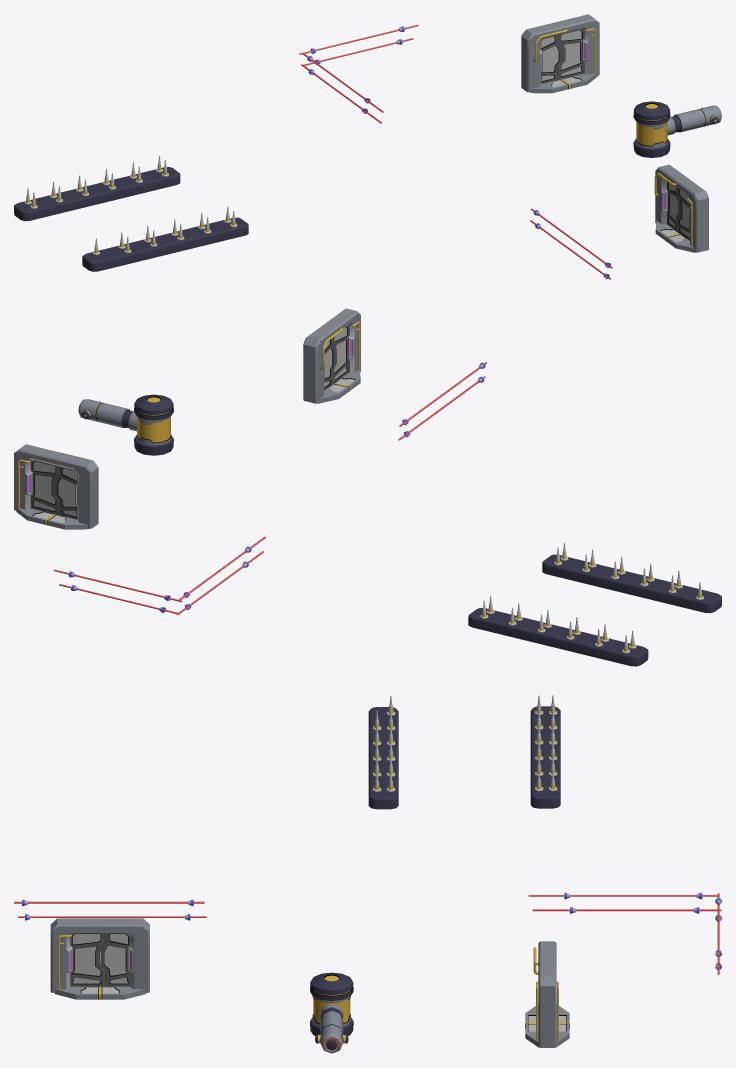
The model's file is Level41_Objects.fbx.
The picture shows the model from 3 angles, top to bottom: view 1: azimuth 30°, elevation 25°; view 2: azimuth 150°, elevation 25°; view 3: azimuth 270°, elevation 25°; orthographic projection. The views are drawn at different scales.
Parts seen in each view (by area): view 1: Base (×4), pCylinder13, Right (×2), Left (×2), Base5 (×2), pCylinder14; view 2: Base (×4), pCylinder13, Right (×2), Base5 (×2), pCylinder14, Left; view 3: Base (×4), Base5 (×2), pCylinder13, Right, Left, pCylinder14.
Part boxes in pixels (x1,y1,x2,y2): Base (×4): (14, 14, 708, 271); pCylinder13: (633, 101, 670, 157); Right (×2): (557, 29, 689, 240); Left (×2): (540, 34, 679, 232); Base5 (×2): (530, 73, 695, 252); pCylinder14: (667, 105, 721, 135); Base (×4): (14, 308, 721, 666); pCylinder13: (134, 394, 173, 455); Right (×2): (31, 325, 348, 515); Base5 (×2): (16, 370, 360, 529); pCylinder14: (78, 399, 137, 431); Left: (55, 466, 77, 519); Base (×4): (50, 706, 560, 1047); Base5 (×2): (54, 986, 569, 1047); pCylinder13: (310, 972, 353, 1035); Right: (70, 933, 105, 987); Left: (100, 933, 130, 987); pCylinder14: (320, 1004, 343, 1053).
Bounding box in the file's own units: 462 × 44.02 × 390.
